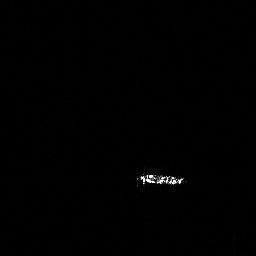ship: (133, 169, 194, 196)
